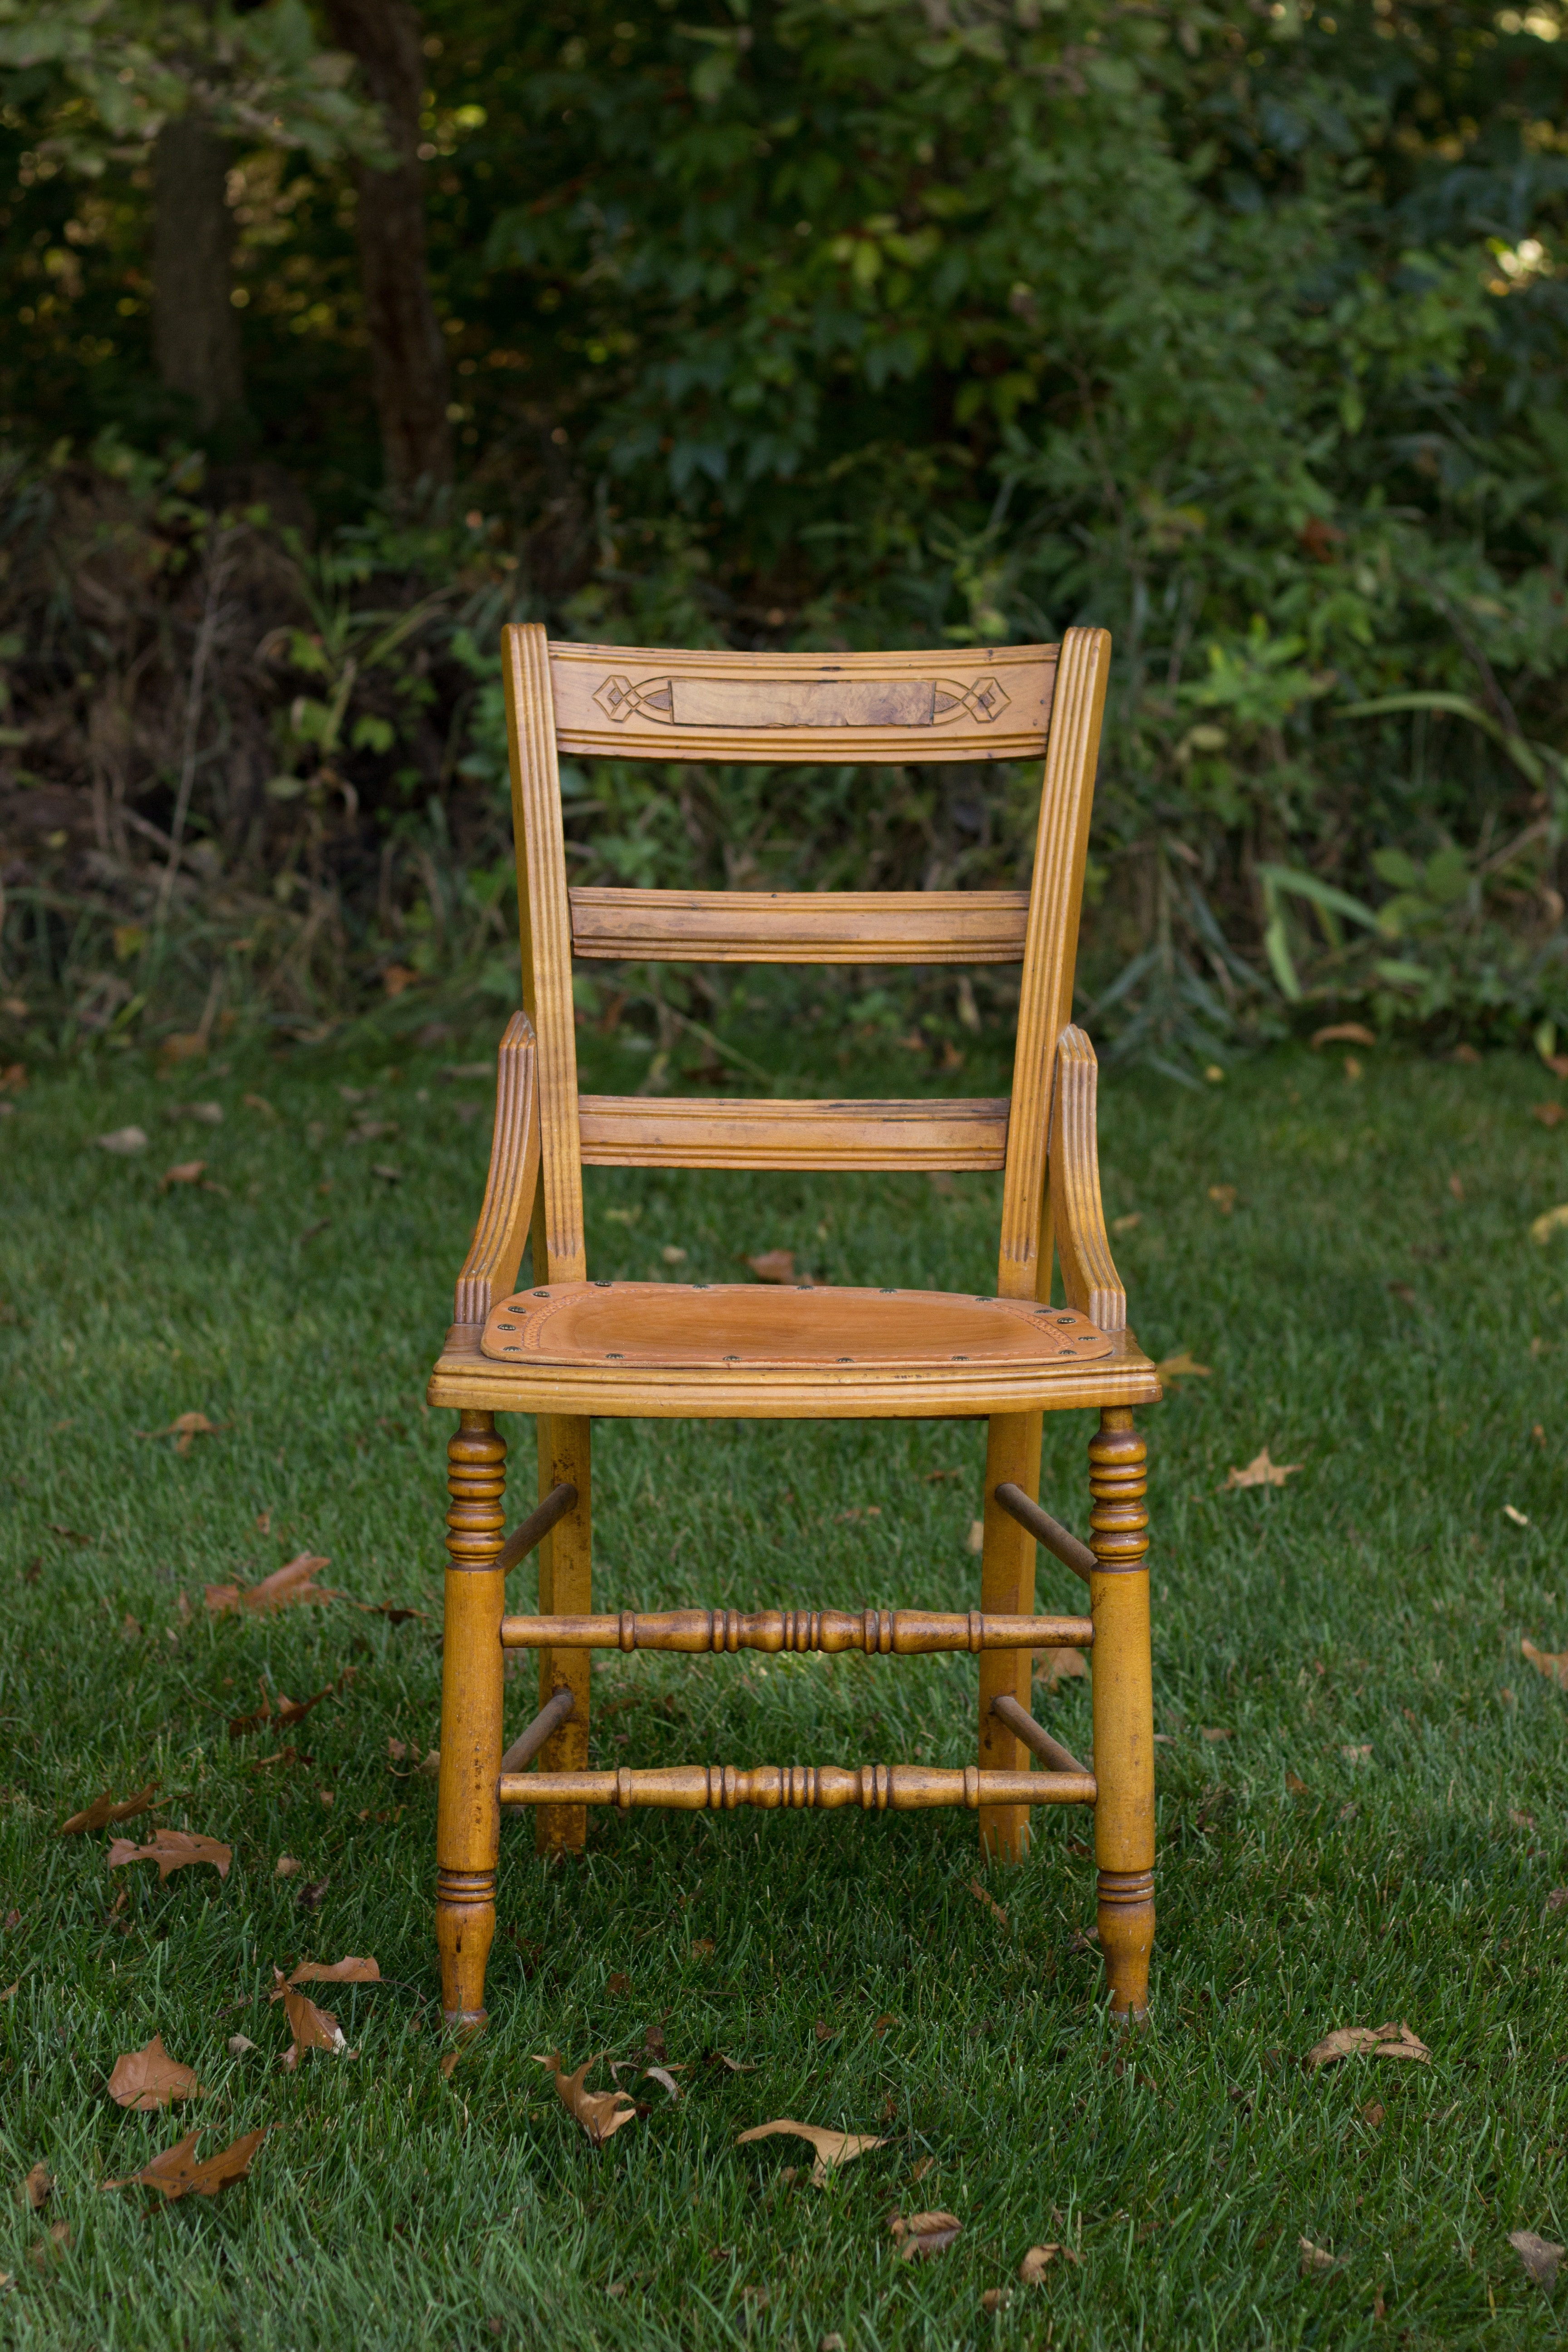Chair: (423, 591, 1179, 2033)
